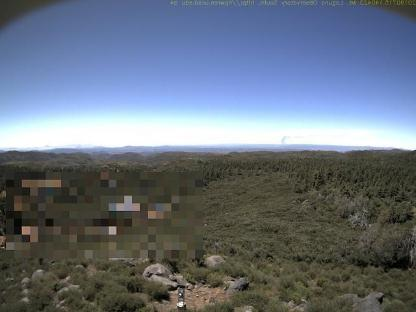smoke: (282, 132, 300, 148)
